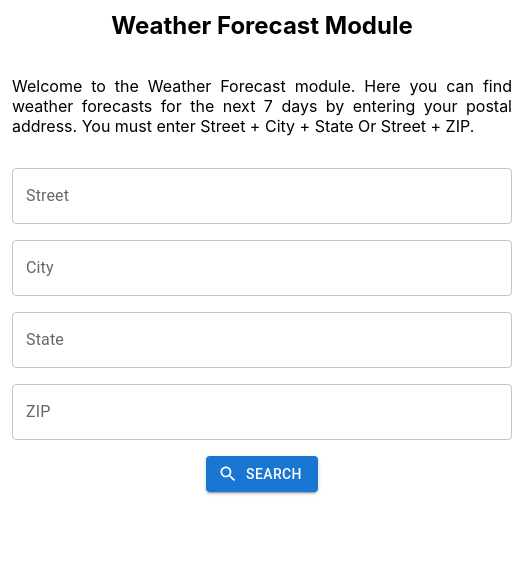
Scenario: require city as a mandatory field
This screenshot has width=529, height=575.
Type "4600 Silver Hill Rd" into the field labelled "Street" at x=262, y=196, box [12,168,512,224]
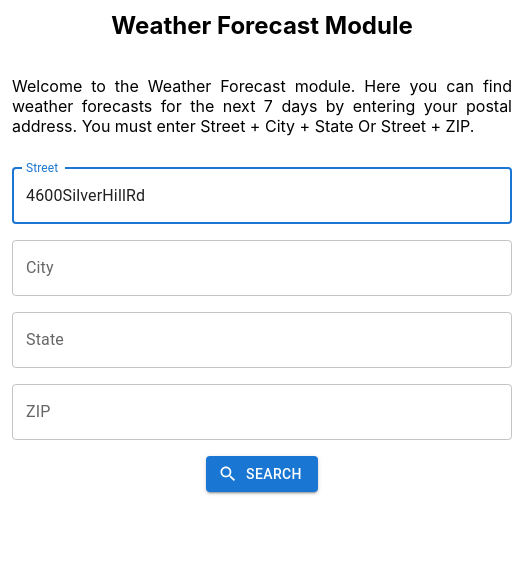
Type "DC" into the field labelled "State" at x=262, y=340, box [12,312,512,368]
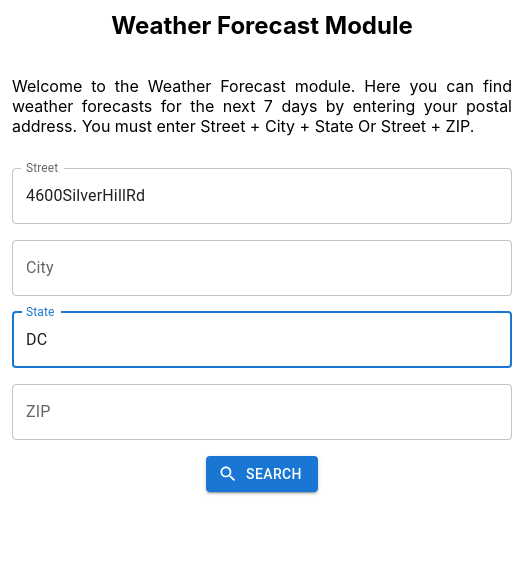
Click the button "Search" at x=262, y=474, box [206,456,318,492]
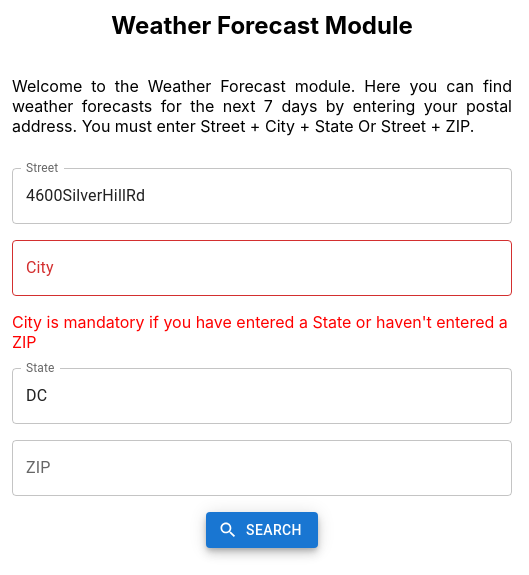
Expected: the text "City is mandatory if you have entered a State or haven't entered a ZIP" is shown, [12,312,512,352]
